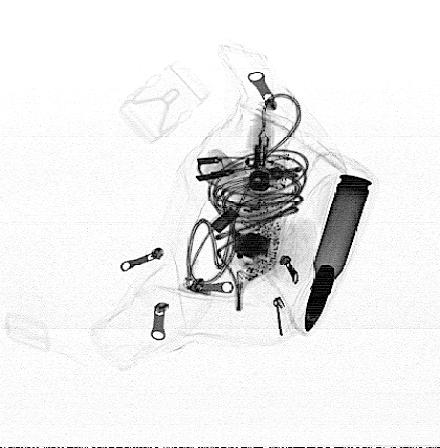Bullet: (305, 175, 373, 333)
